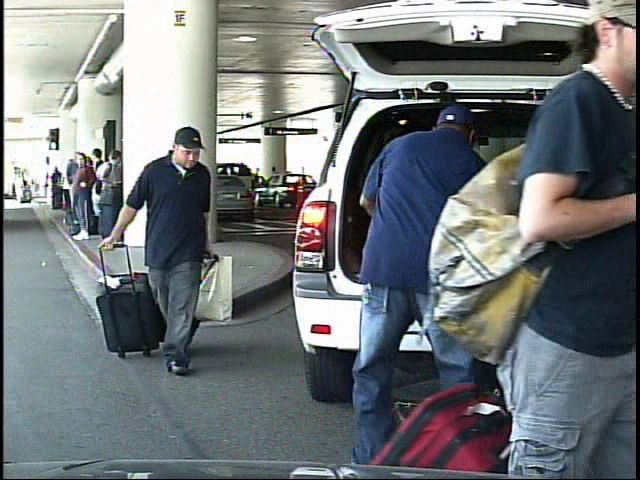person: (462, 12, 640, 476), (327, 88, 501, 476), (98, 121, 233, 381), (14, 173, 24, 204)
